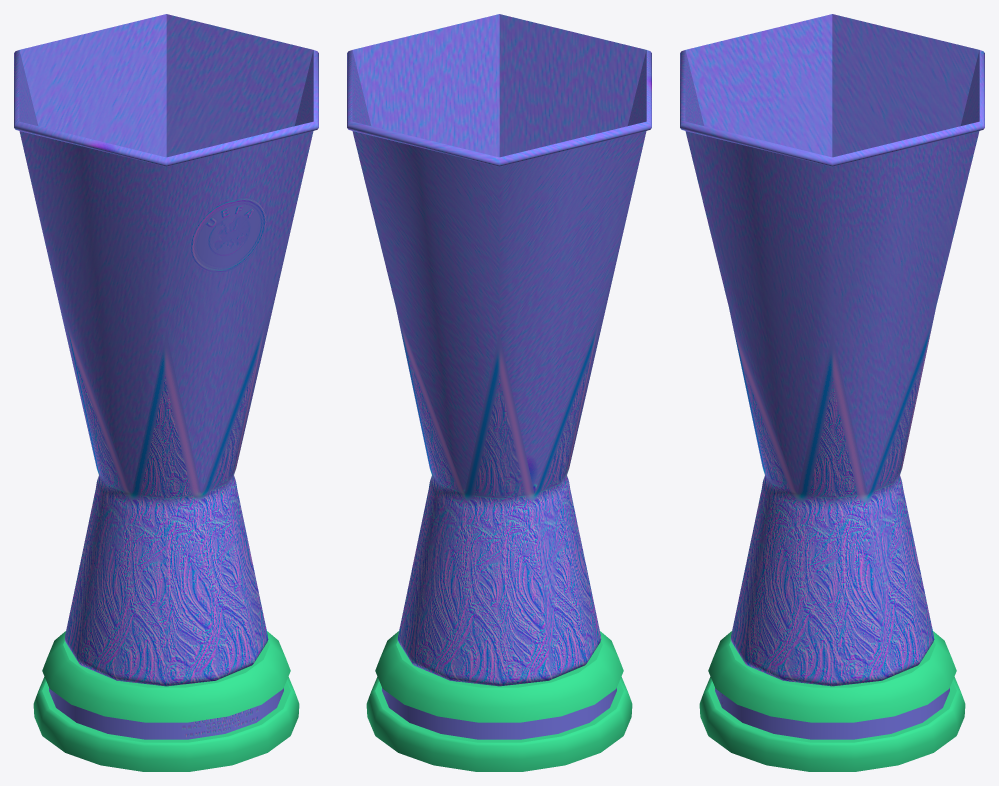
Rendered from copaUEFA_LOD1.FBX.
The picture shows the model from 3 angles, left to right: view 1: azimuth 30°, elevation 25°; view 2: azimuth 150°, elevation 25°; view 3: azimuth 270°, elevation 25°; orthographic projection.
Parts seen in each view (by area): view 1: copaUEFA_LOD1; view 2: copaUEFA_LOD1; view 3: copaUEFA_LOD1.
Part boxes in pixels (x1=…): copaUEFA_LOD1: x1=14, y1=14, x2=318, y2=771; copaUEFA_LOD1: x1=347, y1=14, x2=651, y2=771; copaUEFA_LOD1: x1=680, y1=14, x2=984, y2=771.
Size of the model in its own units: 69.8 by 138 by 60.45.
